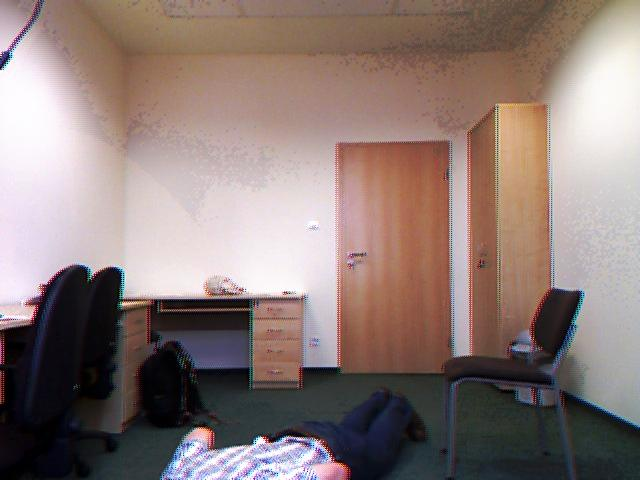fall: (139, 384, 423, 480)
